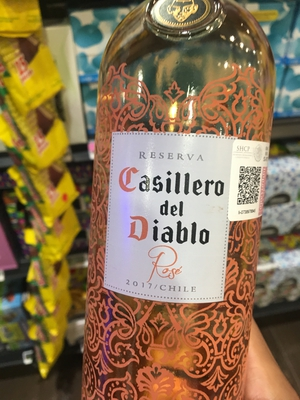casillero del diablo rose: (71, 8, 300, 394)
